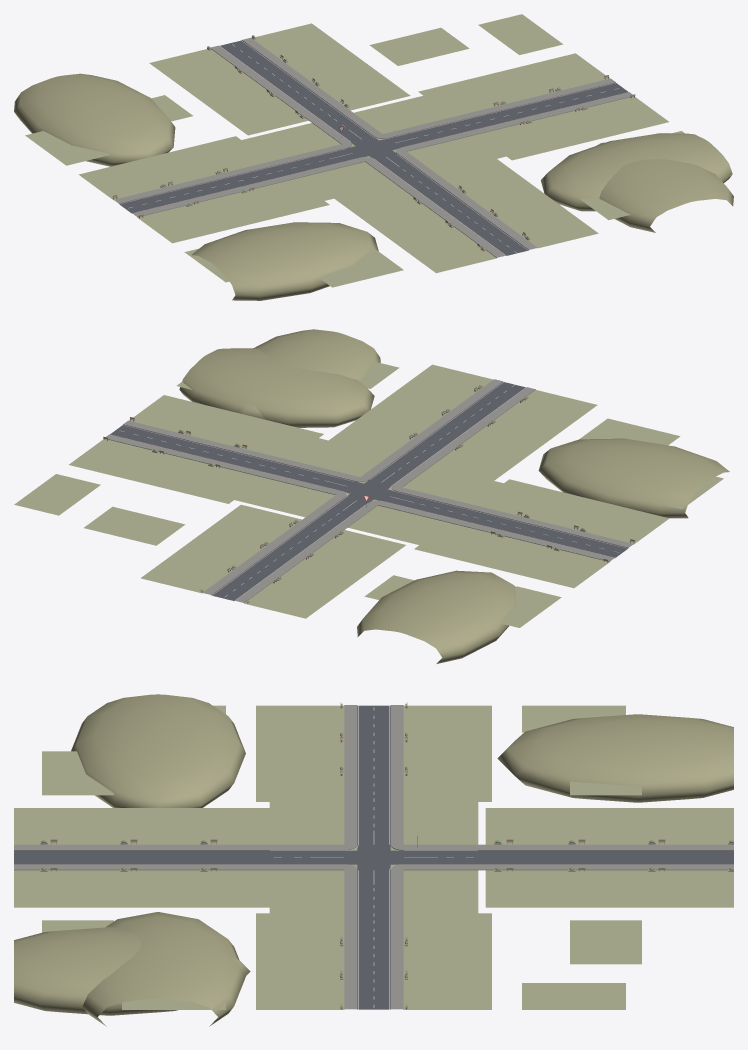
The picture shows the model from 3 angles, top to bottom: view 1: azimuth 30°, elevation 25°; view 2: azimuth 150°, elevation 25°; view 3: azimuth 270°, elevation 25°; orthographic projection. The views are drawn at different scales.
Parts seen in each view (by area): view 1: static; view 2: static; view 3: static.
Part boxes in pixels (left/top/right/bottom): static: left=14, top=14, right=733, bottom=300; static: left=14, top=329, right=729, bottom=663; static: left=14, top=694, right=733, bottom=1026.
Size of what is drawn, in the model's own units: 180 by 14.08 by 180.
Materials: 3 (2 with a texture image).
